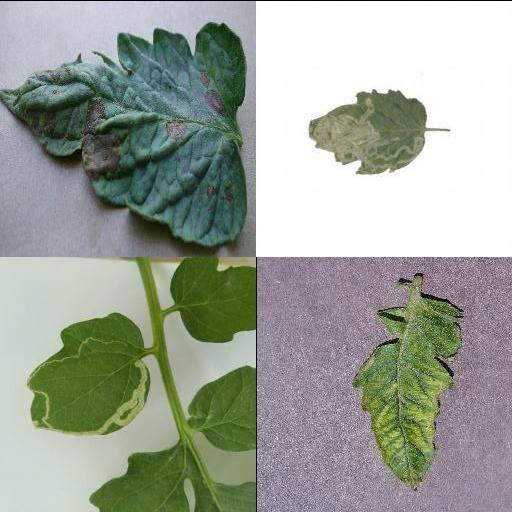Early Blight: (0, 20, 245, 247)
Leaf Miner: (28, 310, 151, 436), (308, 87, 428, 177)
Mosaic Virus: (351, 294, 463, 492)
